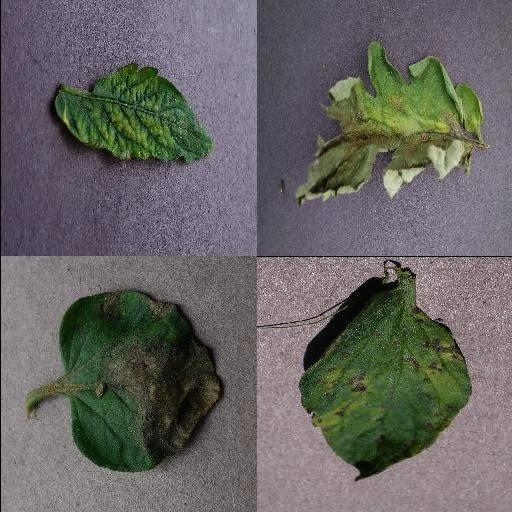Late Blight: (291, 41, 485, 207), (55, 289, 227, 473)
Mosaic Virus: (53, 64, 213, 166)
Septoria: (298, 291, 468, 481)
